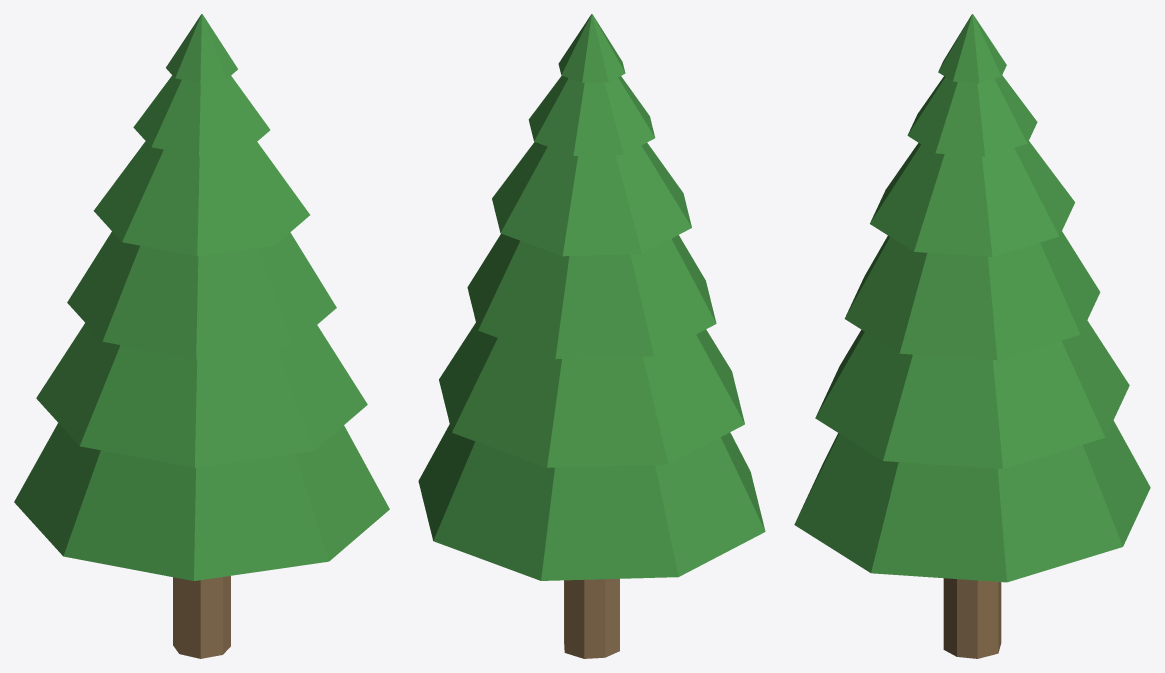
The model's file is Evergreen_Tree.fbx.
3 views of the same model, side by side, from view 1: azimuth 30°, elevation 25°; view 2: azimuth 150°, elevation 25°; view 3: azimuth 270°, elevation 25° (orthographic).
Parts seen in each view (by area): view 1: Evergreen_tree; view 2: Evergreen_tree; view 3: Evergreen_tree.
Part boxes in pixels (x1,y1,x2,y2): Evergreen_tree: (14, 14, 389, 658); Evergreen_tree: (418, 14, 765, 658); Evergreen_tree: (794, 14, 1150, 658).
Size of the model in its own units: 8.14 by 15.75 by 8.05.
